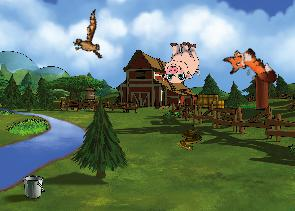eagle: (63, 9, 115, 67)
fox: (219, 38, 280, 99)
pig: (162, 41, 200, 83)
